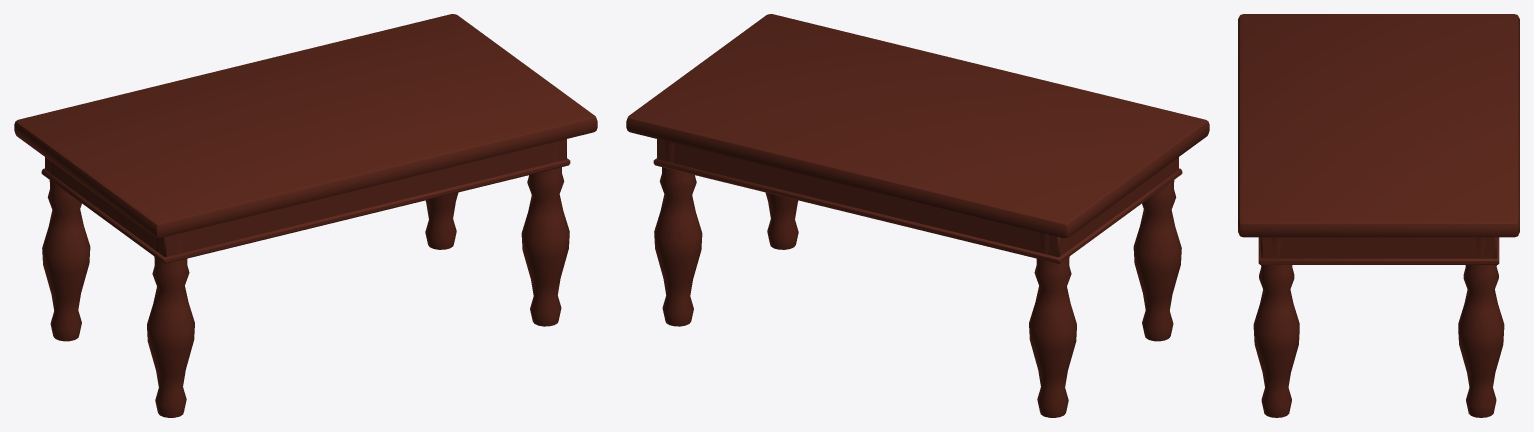
Rendered from RectTable.glb.
3 renders of one model, left to right at view 1: azimuth 30°, elevation 25°; view 2: azimuth 150°, elevation 25°; view 3: azimuth 270°, elevation 25°, orthographic. The views are drawn at different scales.
Visible parts, largest first — view 1: RectTable_Body; view 2: RectTable_Body; view 3: RectTable_Body.
Boxes of the visible parts, bbox=[...] form: RectTable_Body: bbox=[14, 14, 597, 417]; RectTable_Body: bbox=[626, 14, 1209, 417]; RectTable_Body: bbox=[1238, 14, 1519, 417].
Size of the model in its own units: 1.1 by 0.5 by 0.62.
